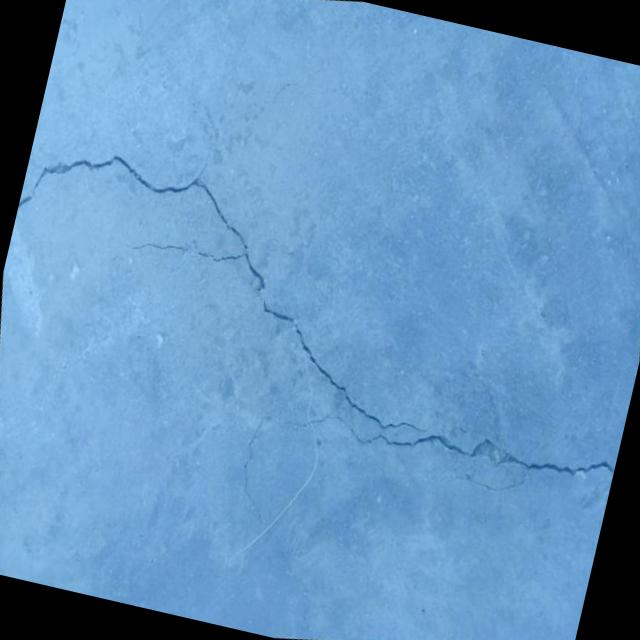crack: (0, 49, 489, 504), (266, 351, 624, 544), (222, 414, 282, 528), (264, 546, 324, 634), (452, 462, 526, 504), (266, 76, 304, 110)
